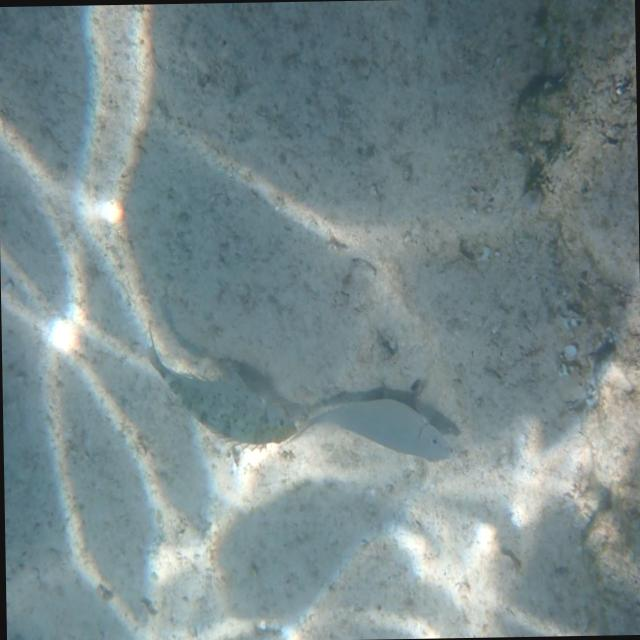Sokar Baligi: (134, 304, 301, 474)
